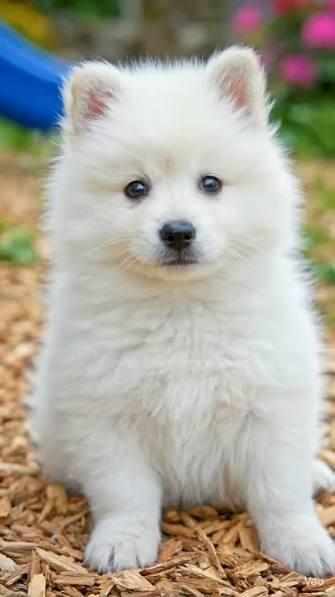puppy-dog: (32, 41, 335, 581)
